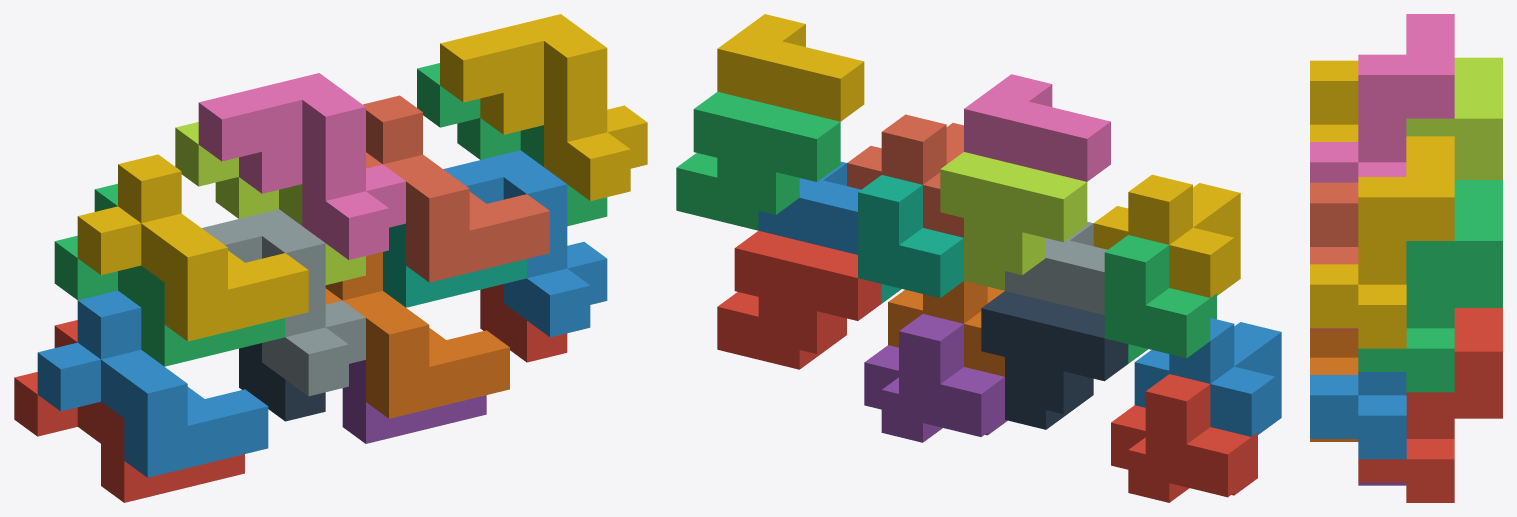
Rendered from tiling.obj.
3 views of the same model, side by side, from view 1: azimuth 30°, elevation 25°; view 2: azimuth 150°, elevation 25°; view 3: azimuth 270°, elevation 25° (orthographic). The views are drawn at different scales.
Visible parts, largest first — view 1: copy_2_domain_8, copy_2_domain_4, copy_1_domain_2, copy_1_domain_4, copy_1_domain_8, copy_1_domain_6, copy_2_domain_6, copy_2_domain_2, copy_1_domain_3, copy_1_domain_1, copy_2_domain_3, copy_2_domain_7 (+4 smaller); view 2: copy_2_domain_7, copy_2_domain_5, copy_2_domain_3, copy_2_domain_1, copy_1_domain_1, copy_1_domain_5, copy_1_domain_4, copy_2_domain_8, copy_2_domain_4, copy_1_domain_2, copy_1_domain_3, copy_1_domain_7 (+4 smaller); view 3: copy_2_domain_8, copy_2_domain_7, copy_2_domain_4, copy_2_domain_5, copy_2_domain_6, copy_2_domain_3, copy_1_domain_8, copy_1_domain_4, copy_1_domain_6.
Boxes of the visible parts, x1,y1,x2,y2 form: copy_2_domain_8: [440, 14, 647, 201]; copy_2_domain_4: [198, 73, 405, 259]; copy_1_domain_2: [37, 290, 268, 477]; copy_1_domain_4: [77, 154, 308, 341]; copy_1_domain_8: [363, 95, 549, 282]; copy_1_domain_6: [325, 252, 509, 418]; copy_2_domain_6: [443, 150, 607, 337]; copy_2_domain_2: [202, 209, 365, 396]; copy_1_domain_3: [54, 183, 285, 366]; copy_1_domain_1: [14, 320, 244, 502]; copy_2_domain_3: [175, 122, 365, 284]; copy_2_domain_7: [417, 63, 607, 226]; copy_2_domain_7: [676, 91, 840, 230]; copy_2_domain_5: [717, 230, 881, 369]; copy_2_domain_3: [940, 152, 1087, 290]; copy_2_domain_1: [981, 291, 1128, 429]; copy_1_domain_1: [1111, 374, 1257, 502]; copy_1_domain_5: [864, 314, 1007, 442]; copy_1_domain_4: [1093, 174, 1240, 297]; copy_2_domain_8: [717, 14, 864, 121]; copy_2_domain_4: [964, 74, 1110, 181]; copy_1_domain_2: [1134, 318, 1281, 436]; copy_1_domain_3: [1104, 235, 1216, 363]; copy_1_domain_7: [858, 175, 963, 303]; copy_2_domain_8: [1310, 136, 1454, 348]; copy_2_domain_7: [1358, 180, 1502, 392]; copy_2_domain_4: [1310, 14, 1454, 182]; copy_2_domain_5: [1358, 308, 1502, 502]; copy_2_domain_6: [1310, 372, 1406, 459]; copy_2_domain_3: [1406, 57, 1502, 179]; copy_1_domain_8: [1310, 182, 1358, 331]; copy_1_domain_4: [1310, 60, 1358, 141]; copy_1_domain_6: [1310, 331, 1358, 441].
Bounding box in the file's own units: 14 × 8 × 4.
